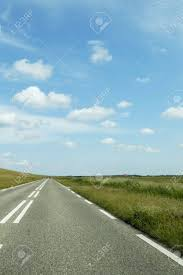strada: (1, 177, 143, 275)
